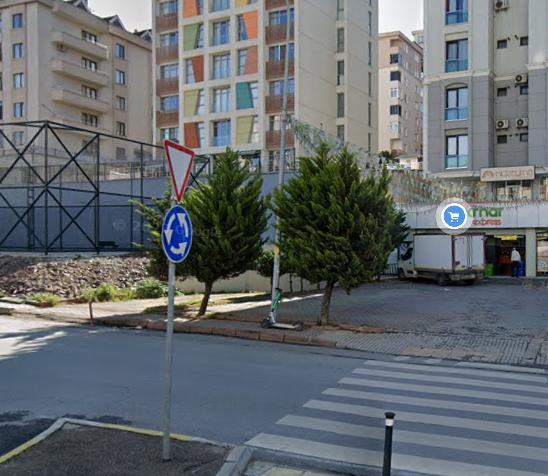crossroads: (163, 208, 191, 259)
